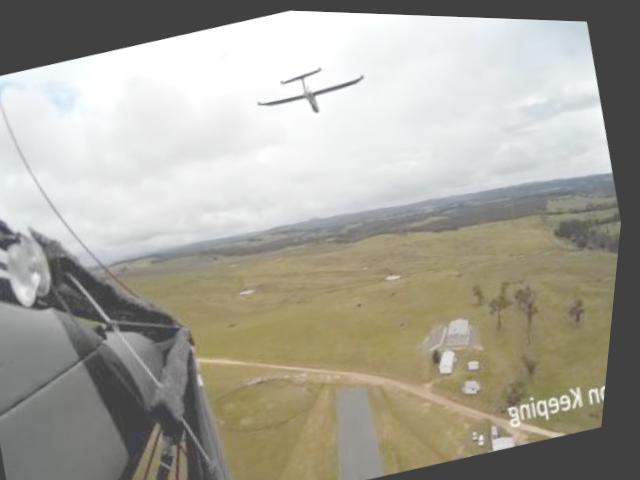uav: (248, 47, 380, 131)
